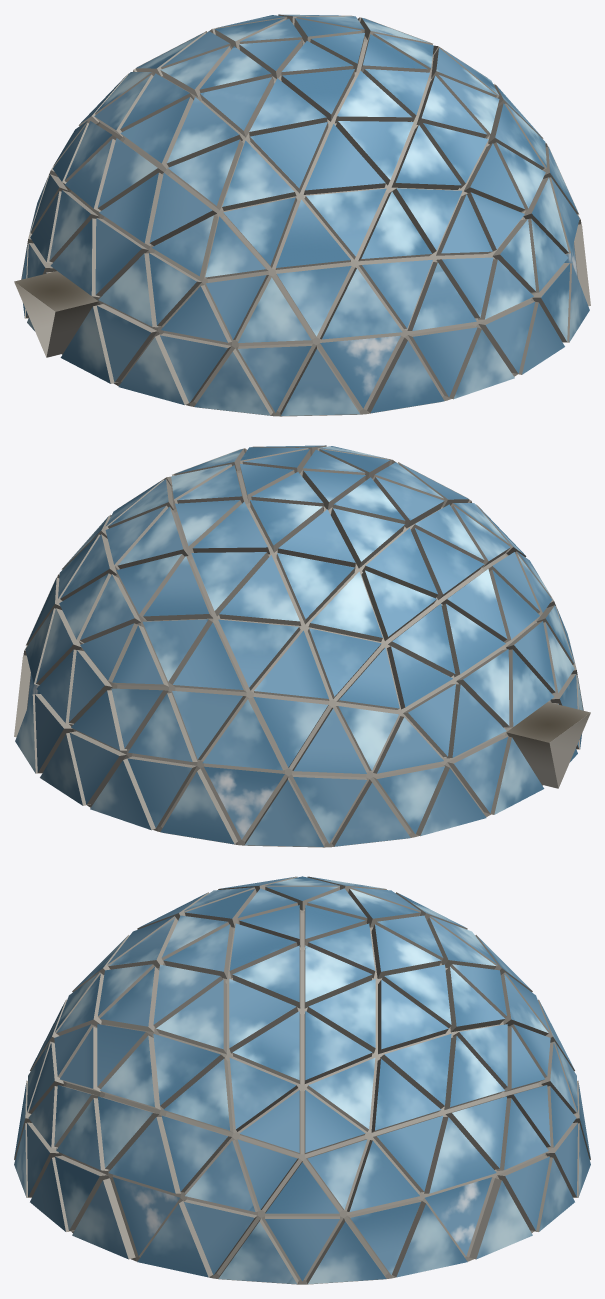
The model's file is geodesic_dome.fbx.
3 renders of one model, top to bottom at view 1: azimuth 30°, elevation 25°; view 2: azimuth 150°, elevation 25°; view 3: azimuth 270°, elevation 25°, orthographic.
Visible parts, largest first — view 1: Dome, Entry Tunnel, Door 4; view 2: Dome, Entry Tunnel, Door 1; view 3: Dome, Door 2, Door 3.
Part boxes in pixels (<box>): Dome: <box>21,14,590,416</box>; Entry Tunnel: <box>14,271,98,357</box>; Door 4: <box>320,335,400,408</box>; Dome: <box>14,445,583,847</box>; Entry Tunnel: <box>506,702,590,788</box>; Door 1: <box>204,766,284,839</box>; Dome: <box>14,876,590,1284</box>; Door 2: <box>425,1177,491,1256</box>; Door 3: <box>113,1177,179,1256</box>.
Size of the model in its own units: 1080 by 520 by 1032.
7 materials, 7 textured.
